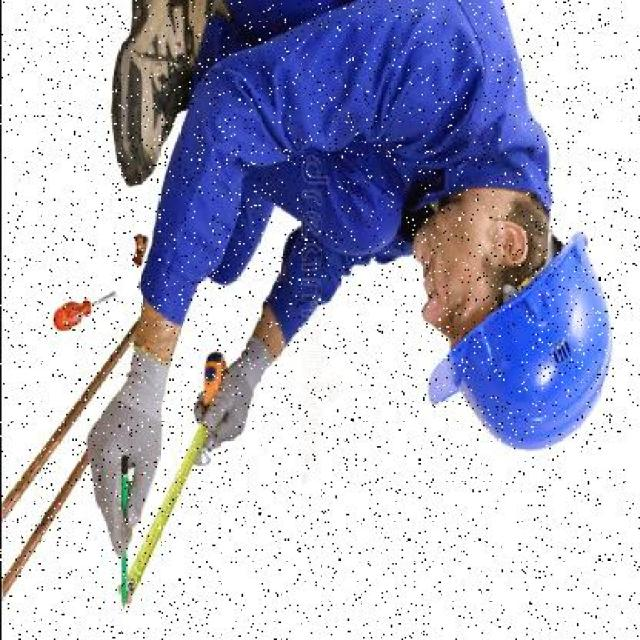shoes: (104, 0, 218, 177)
